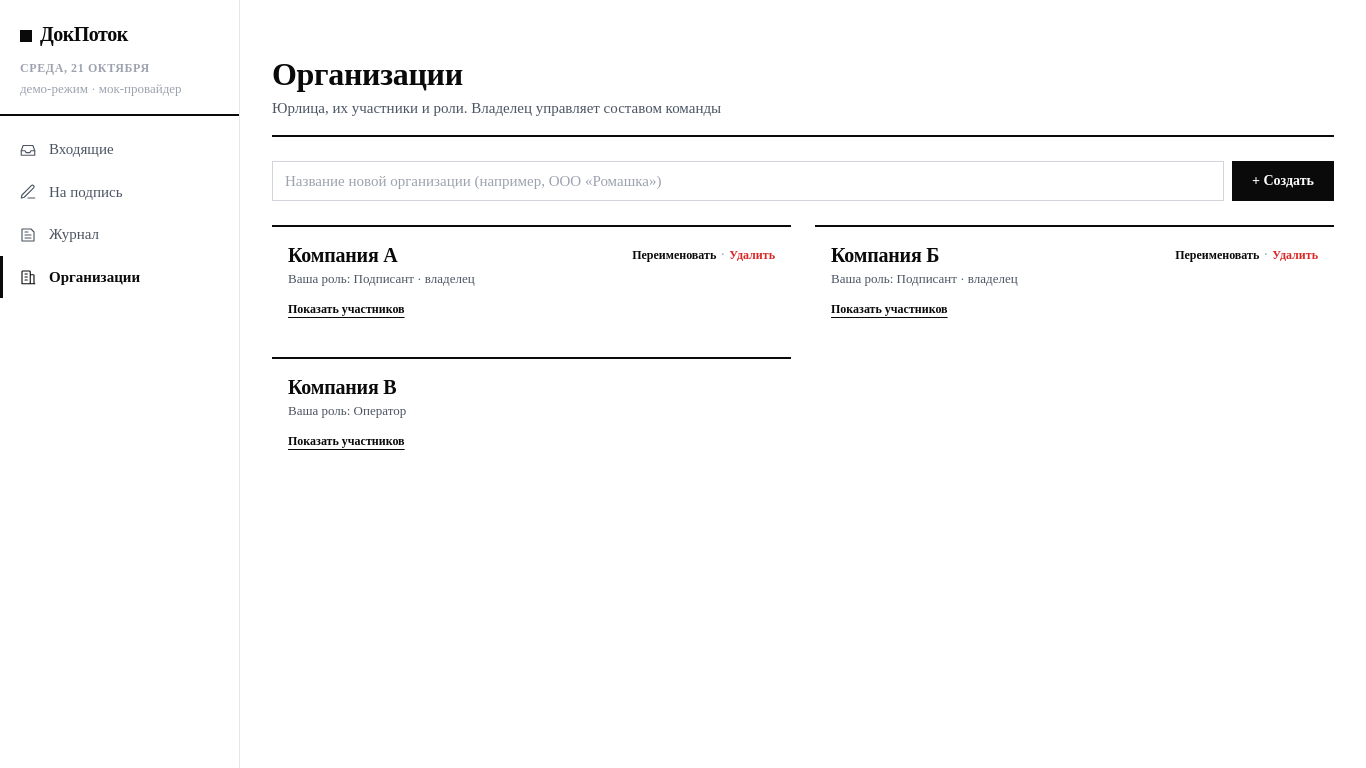
Scenario: Организации (CRUD) › не создаёт организацию с коротким названием (валидация, негативный)
Expected: the heading "Организации" is shown, [272,56,463,92]
Type "А" into the field labelled "Название новой организации" at (748, 181), box [272,161,1224,201]
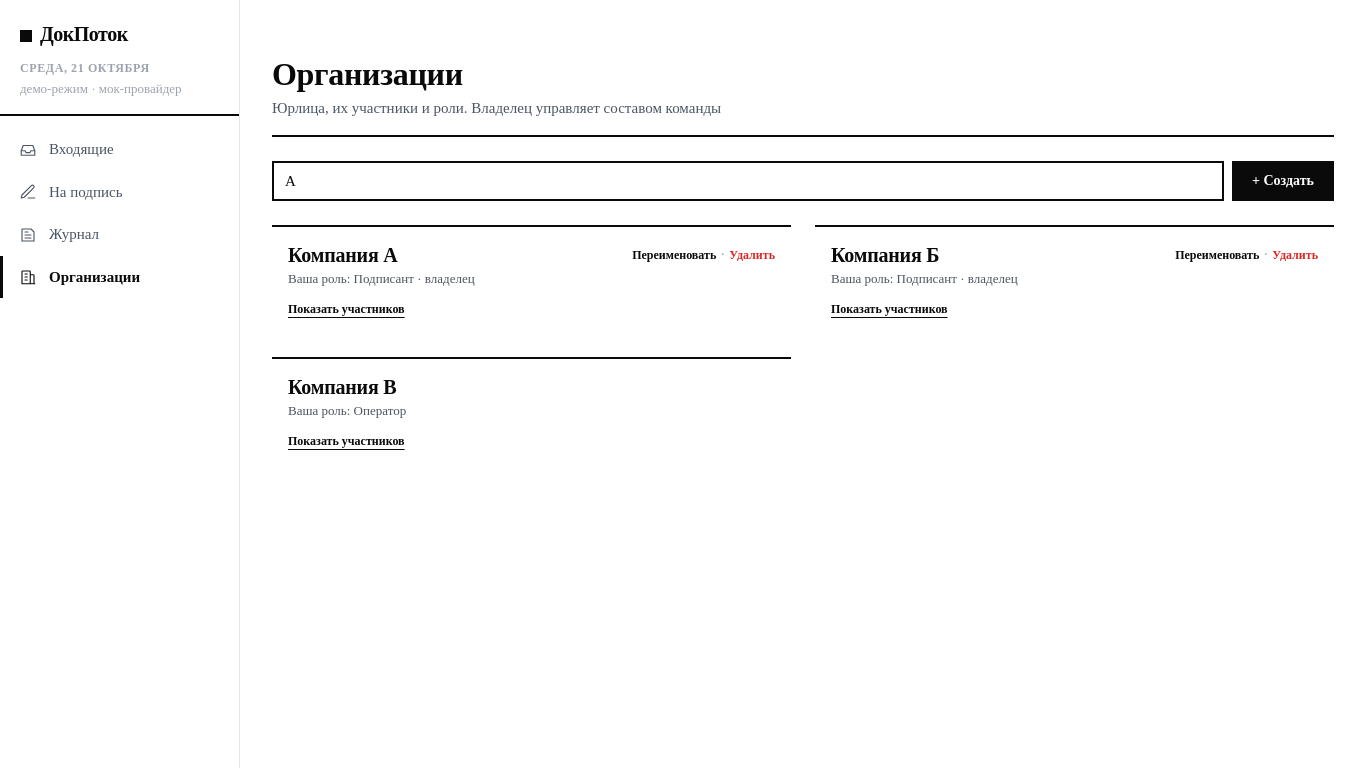
Click the button "+ Создать" at (1283, 181), box [1232,161,1334,201]
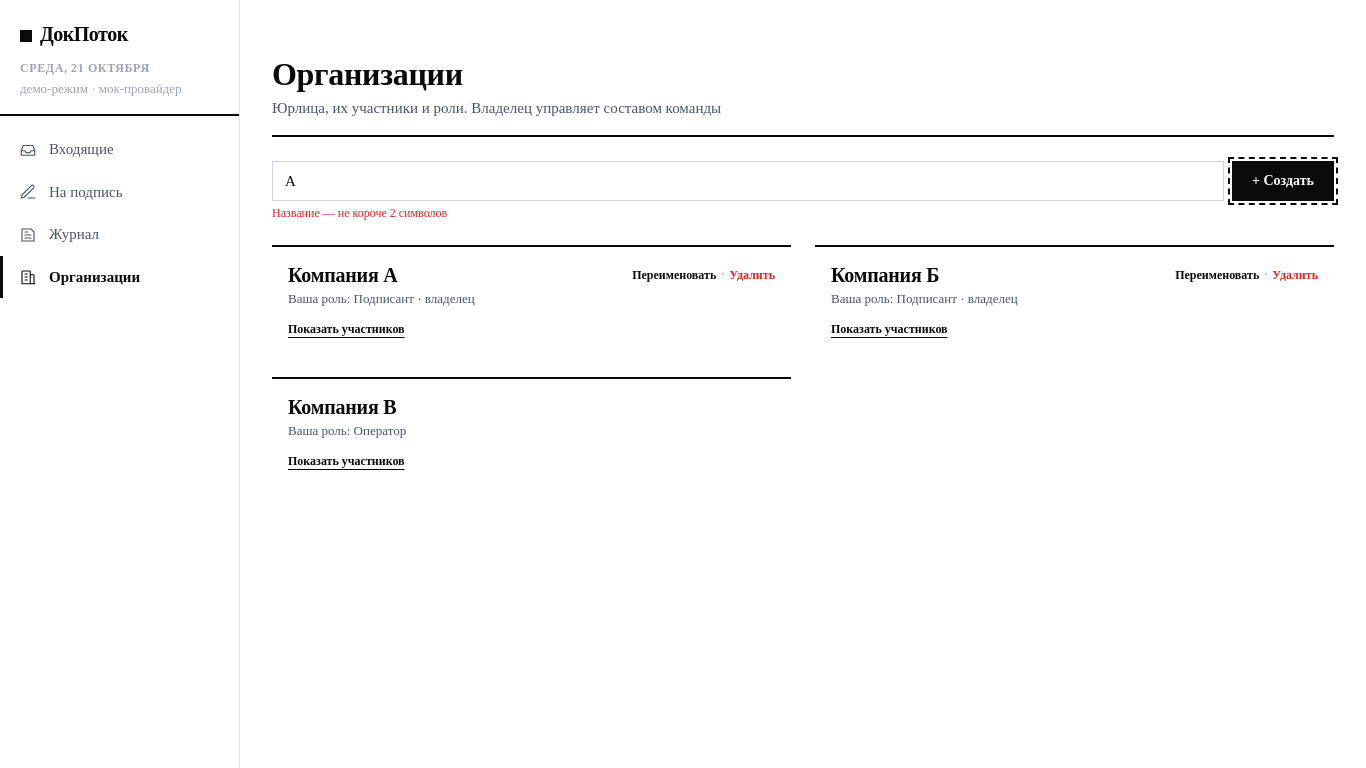
Result: the message shows "не короче 2 символов" at [272,206,447,220]
